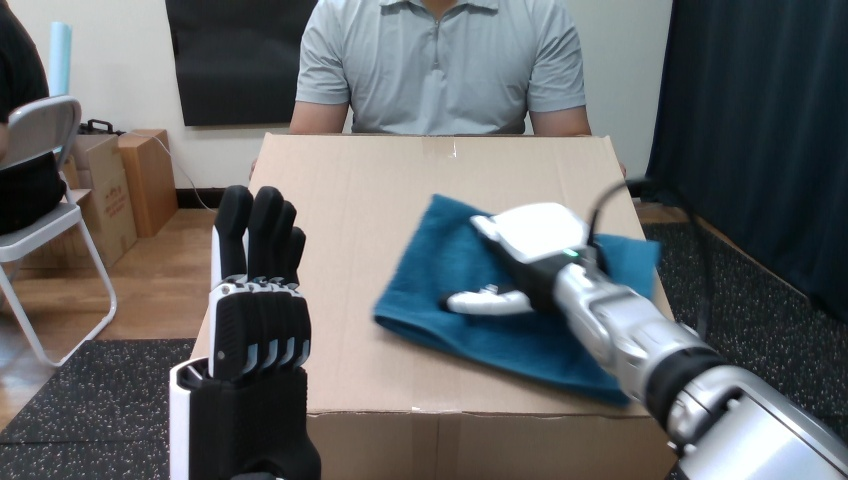left robot hand: (446, 203, 847, 478), (170, 185, 320, 478)
